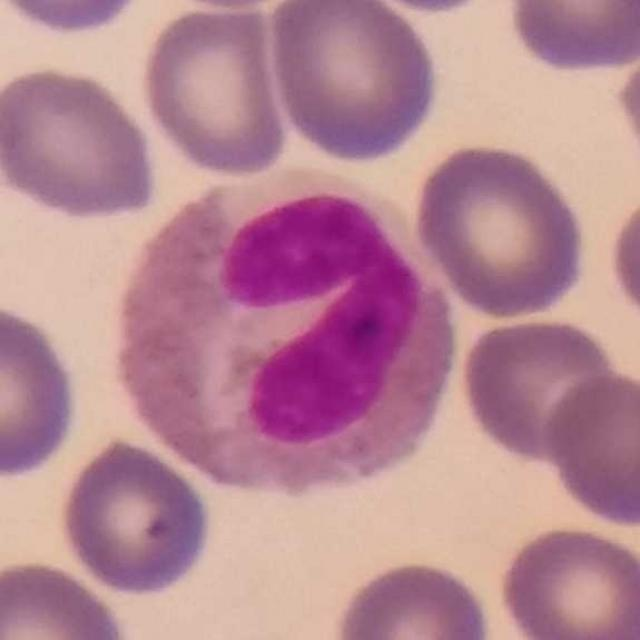Eosinophil: (108, 167, 464, 497)
RBC: (410, 137, 592, 322), (264, 0, 443, 166), (136, 2, 293, 182), (455, 312, 630, 468), (53, 433, 217, 599), (0, 60, 163, 224), (494, 520, 640, 640), (540, 367, 640, 531), (0, 297, 85, 483), (329, 555, 496, 640), (0, 555, 135, 640), (502, 0, 639, 76), (603, 180, 640, 342), (0, 0, 152, 39), (612, 17, 640, 200), (388, 0, 488, 21)
